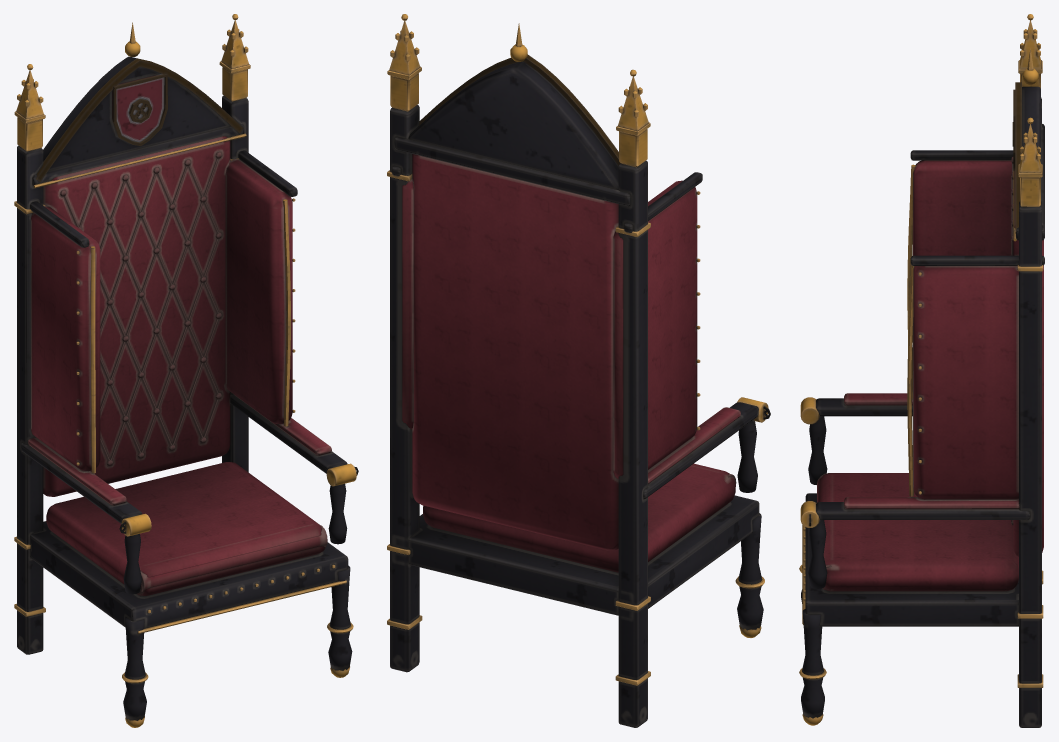
The model's file is HeadmasterChair.fbx.
The picture shows the model from 3 angles, left to right: view 1: azimuth 30°, elevation 25°; view 2: azimuth 150°, elevation 25°; view 3: azimuth 270°, elevation 25°; orthographic projection. The views are drawn at different scales.
Visible parts, largest first — view 1: HeadmasterChair; view 2: HeadmasterChair; view 3: HeadmasterChair.
Boxes of the visible parts, x1,y1,x2,y2 form: HeadmasterChair: (14,14,358,727); HeadmasterChair: (387,14,770,727); HeadmasterChair: (799,14,1044,727).
Size of the model in its own units: 298 by 720 by 257.
